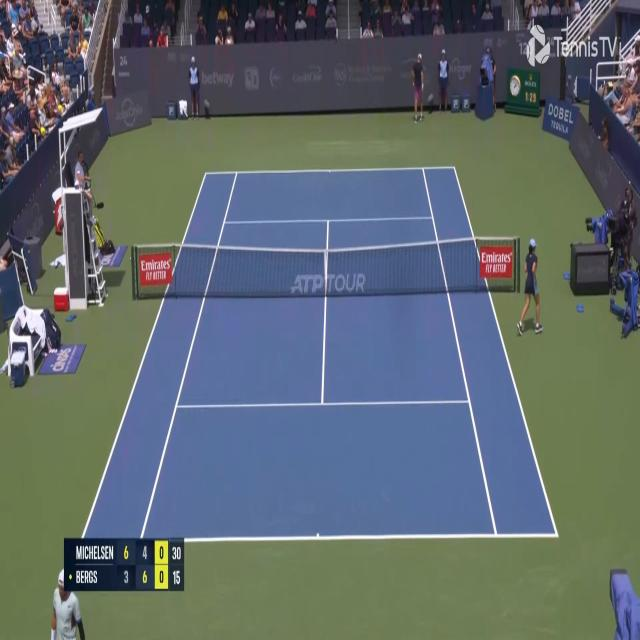tennis-player: (47, 570, 87, 639), (410, 51, 427, 124)
